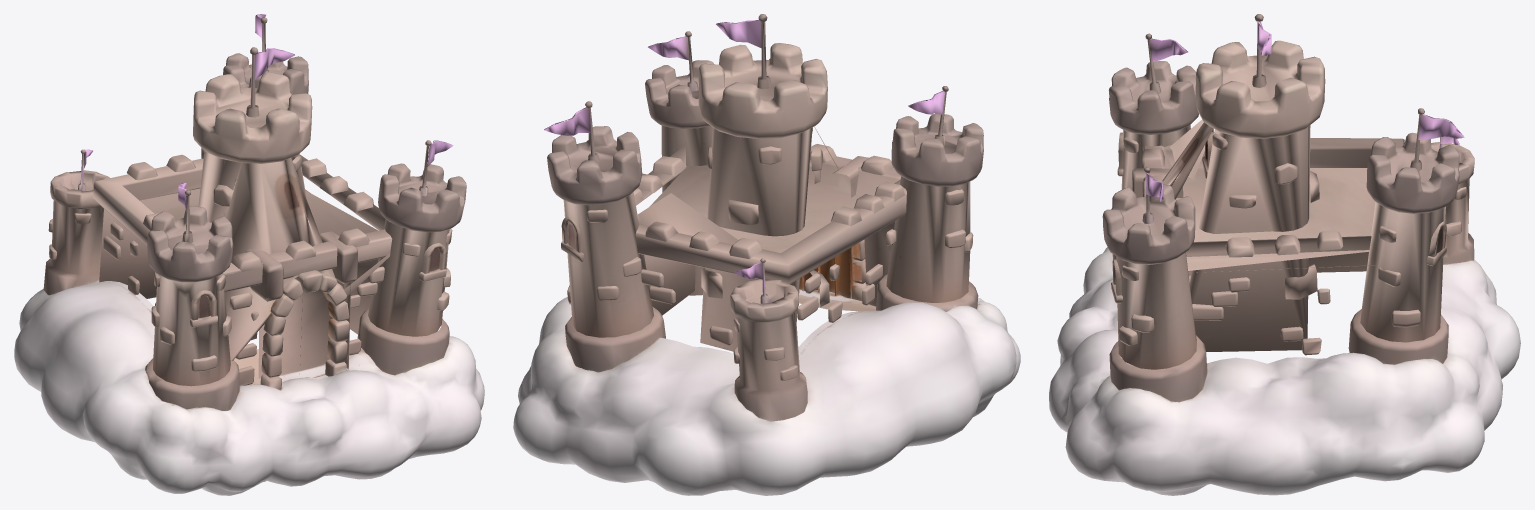
File: giant_castle.glb
3 views of the same model, side by side, from view 1: azimuth 30°, elevation 25°; view 2: azimuth 150°, elevation 25°; view 3: azimuth 270°, elevation 25° (orthographic). The views are drawn at different scales.
Visible parts, largest first — view 1: giant_castle; view 2: giant_castle; view 3: giant_castle.
Boxes of the visible parts, left/top/right/bottom form: giant_castle: left=14, top=14, right=484, bottom=495; giant_castle: left=513, top=14, right=1020, bottom=495; giant_castle: left=1049, top=14, right=1520, bottom=495.
Size of the model in its own units: 29.77 by 29.56 by 30.
1 material, 1 textured.
